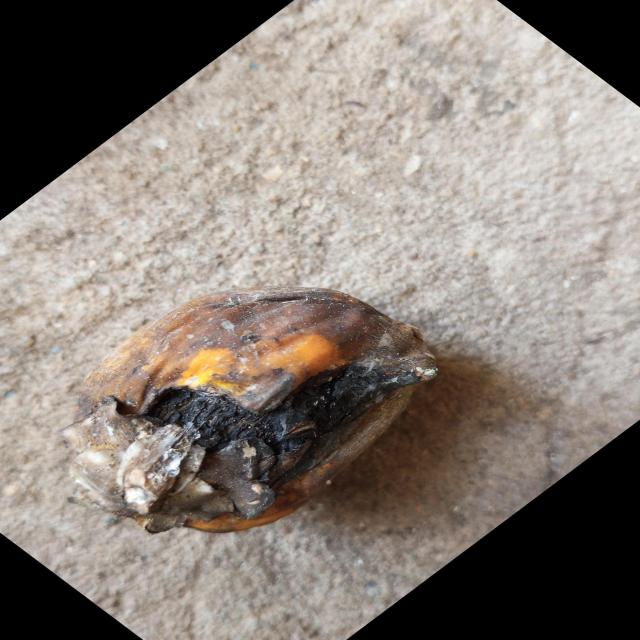damaged: (66, 289, 439, 537)
